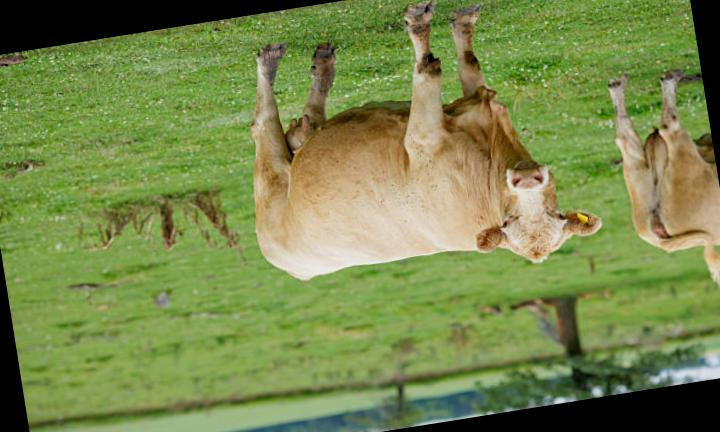Charolais: (253, 3, 602, 279)
